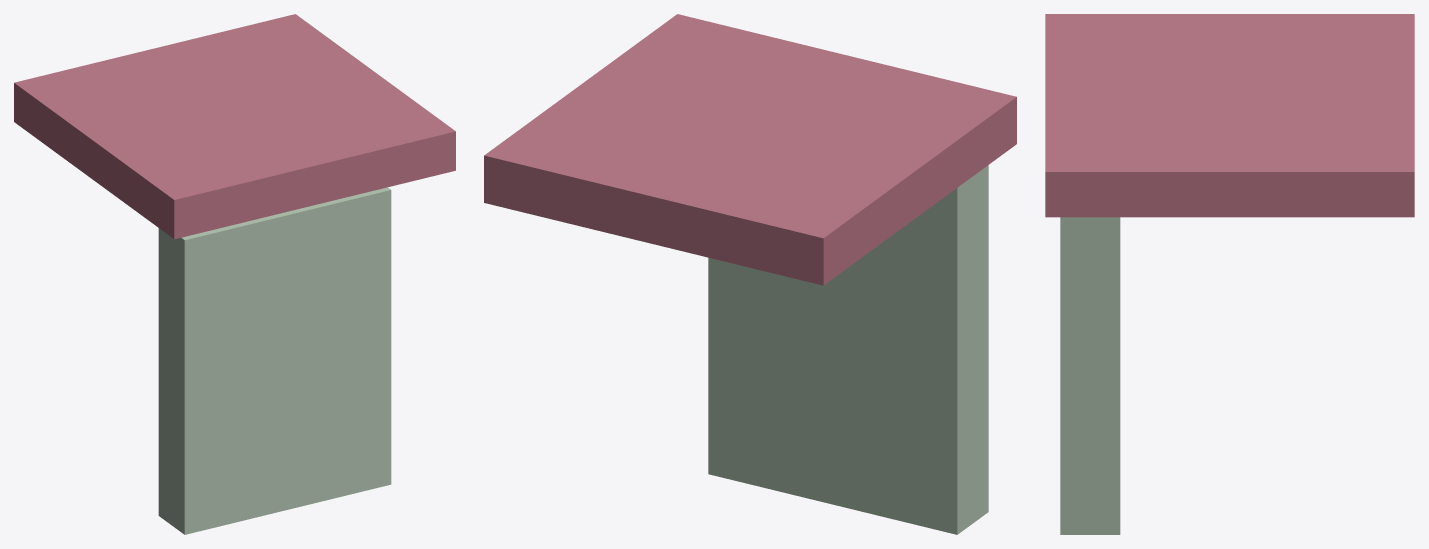
The model's file is 199536_pred.glb.
3 renders of one model, left to right at view 1: azimuth 30°, elevation 25°; view 2: azimuth 150°, elevation 25°; view 3: azimuth 270°, elevation 25°, orthographic. The views are drawn at different scales.
Visible parts, largest first — view 1: world; view 2: world; view 3: world.
Part boxes in pixels (x1,y1,x2,y2): world: [14, 14, 455, 534]; world: [484, 14, 1016, 534]; world: [1045, 14, 1414, 534].
Bounding box in the file's own units: 7.5 × 8.75 × 7.4.
